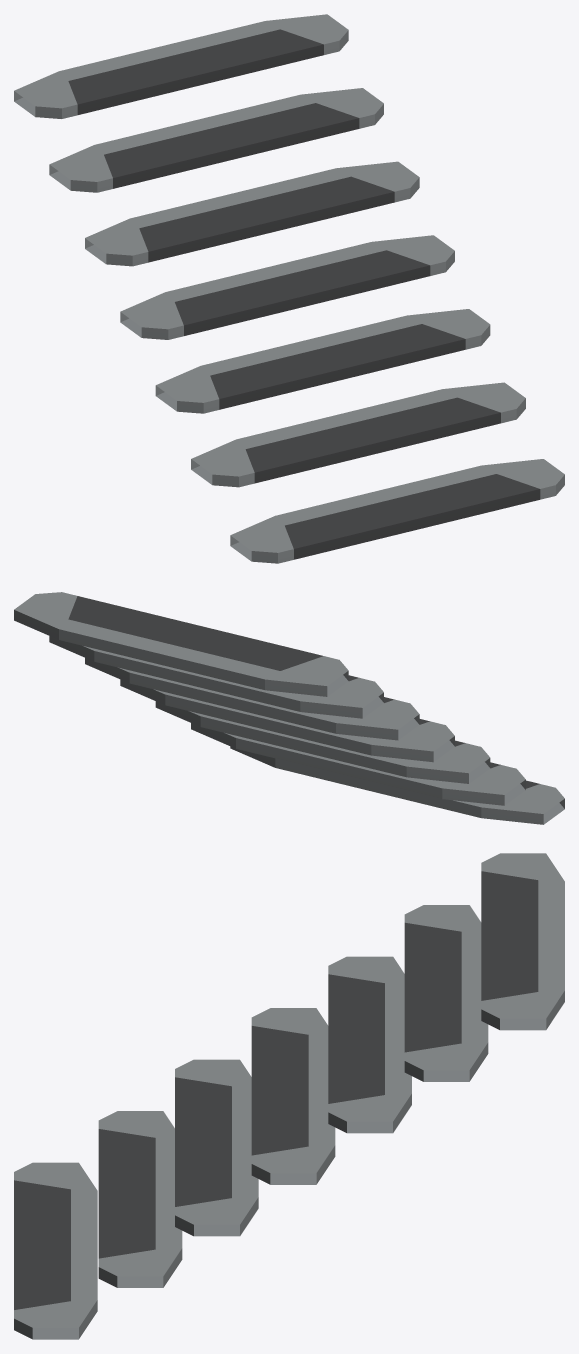
The model's file is Stair_type_B_002.fbx.
3 views of the same model, one above another, from view 1: azimuth 30°, elevation 25°; view 2: azimuth 150°, elevation 25°; view 3: azimuth 270°, elevation 25° (orthographic). The views are drawn at different scales.
Parts seen in each view (by area): view 1: Stair_type_B_002; view 2: Stair_type_B_002; view 3: Stair_type_B_002.
Part boxes in pixels (x1,y1,x2,y2): Stair_type_B_002: (14, 14, 564, 563); Stair_type_B_002: (14, 592, 564, 824); Stair_type_B_002: (14, 853, 564, 1339).
Bounding box in the file's own units: 152 × 214 × 138.
